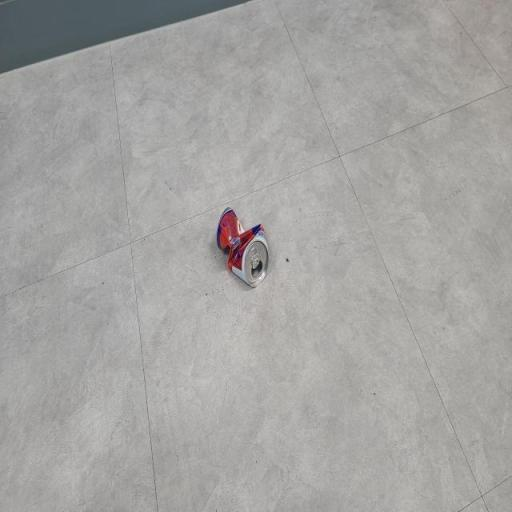metal: (209, 198, 275, 296)
